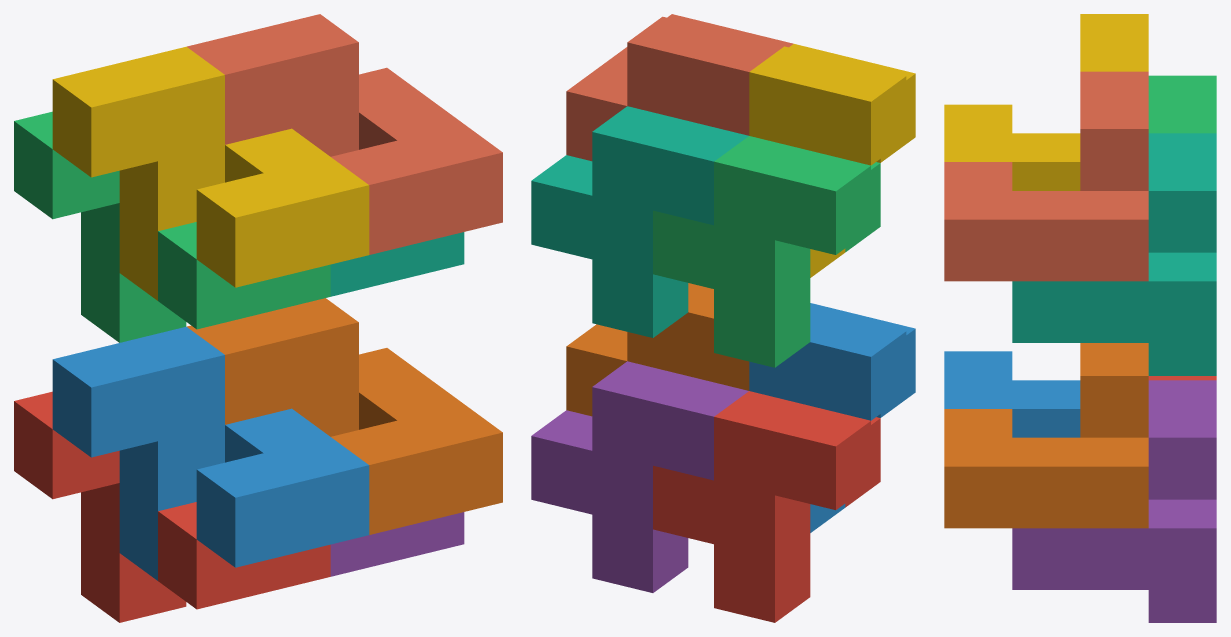
The model's file is tiling.obj.
3 views of the same model, side by side, from view 1: azimuth 30°, elevation 25°; view 2: azimuth 150°, elevation 25°; view 3: azimuth 270°, elevation 25° (orthographic). The views are drawn at different scales.
Parts seen in each view (by area): view 1: copy_1_domain_4, copy_1_domain_2, copy_1_domain_8, copy_1_domain_6, copy_1_domain_3, copy_1_domain_1, copy_1_domain_5, copy_1_domain_7; view 2: copy_1_domain_1, copy_1_domain_3, copy_1_domain_5, copy_1_domain_7, copy_1_domain_8, copy_1_domain_4, copy_1_domain_2, copy_1_domain_6; view 3: copy_1_domain_8, copy_1_domain_6, copy_1_domain_5, copy_1_domain_7, copy_1_domain_4, copy_1_domain_2, copy_1_domain_3.
Boxes of the visible parts, x1=… form: copy_1_domain_4: x1=52, y1=46, x2=369, y2=300; copy_1_domain_2: x1=52, y1=326, x2=369, y2=580; copy_1_domain_8: x1=187, y1=14, x2=502, y2=254; copy_1_domain_6: x1=187, y1=298, x2=502, y2=534; copy_1_domain_3: x1=14, y1=111, x2=330, y2=342; copy_1_domain_1: x1=14, y1=391, x2=330, y2=622; copy_1_domain_5: x1=330, y1=512, x2=464, y2=576; copy_1_domain_7: x1=330, y1=232, x2=464, y2=296; copy_1_domain_1: x1=653, y1=391, x2=880, y2=622; copy_1_domain_3: x1=653, y1=136, x2=880, y2=367; copy_1_domain_5: x1=531, y1=361, x2=748, y2=592; copy_1_domain_7: x1=531, y1=106, x2=748, y2=337; copy_1_domain_8: x1=566, y1=14, x2=793, y2=161; copy_1_domain_4: x1=749, y1=44, x2=915, y2=277; copy_1_domain_2: x1=749, y1=303, x2=915, y2=532; copy_1_domain_6: x1=566, y1=283, x2=749, y2=416; copy_1_domain_8: x1=944, y1=71, x2=1148, y2=281; copy_1_domain_6: x1=944, y1=343, x2=1148, y2=528; copy_1_domain_5: x1=1012, y1=380, x2=1216, y2=622; copy_1_domain_7: x1=1012, y1=133, x2=1216, y2=375; copy_1_domain_4: x1=944, y1=14, x2=1148, y2=190; copy_1_domain_2: x1=944, y1=351, x2=1080, y2=437; copy_1_domain_3: x1=1148, y1=75, x2=1216, y2=133.
Bounding box in the file's own units: 5 × 8 × 4.
